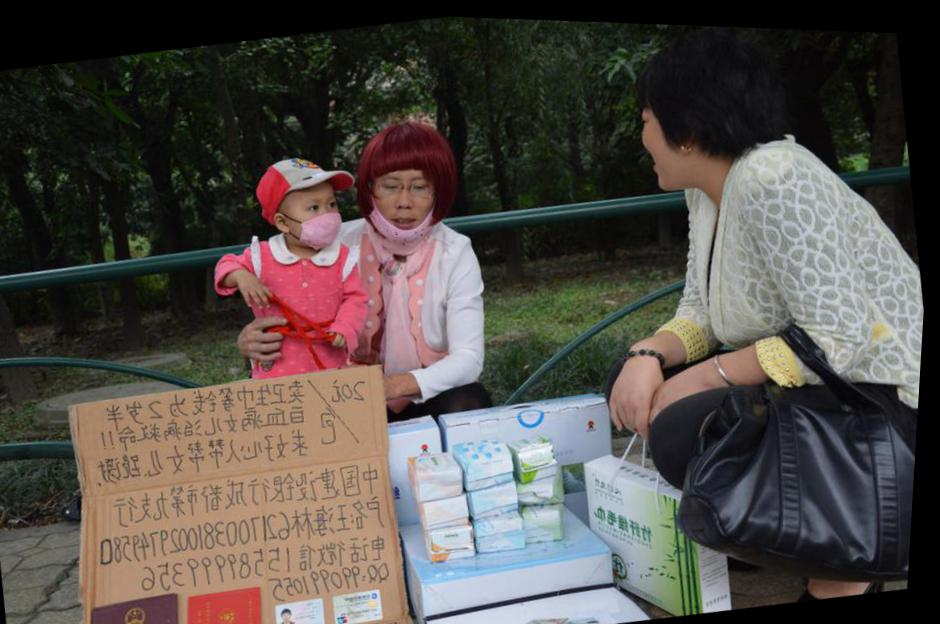NONE: (628, 98, 717, 191)
OK: (285, 184, 352, 249)
WRONG: (367, 157, 453, 242)
